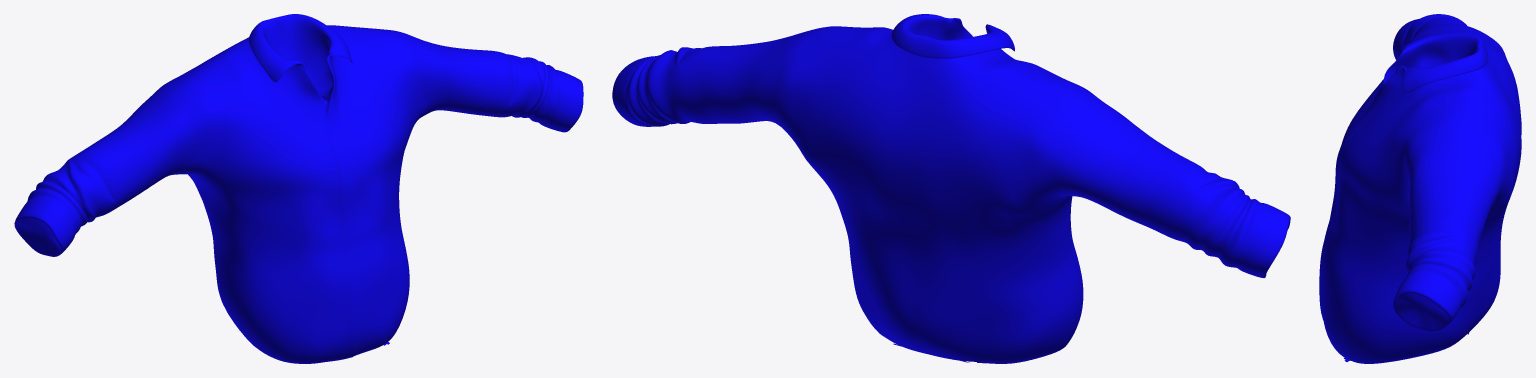
Rendered from casual 2.glb.
3 renders of one model, left to right at view 1: azimuth 30°, elevation 25°; view 2: azimuth 150°, elevation 25°; view 3: azimuth 270°, elevation 25°, orthographic. The views are drawn at different scales.
Parts seen in each view (by area): view 1: imagetostl_mesh0; view 2: imagetostl_mesh0; view 3: imagetostl_mesh0.
Boxes of the visible parts, box(x1,y1,x2,y2) form: imagetostl_mesh0: box(14, 14, 583, 363); imagetostl_mesh0: box(612, 14, 1290, 363); imagetostl_mesh0: box(1319, 14, 1521, 363).
Bounding box in the file's own units: 11.63 × 5.78 × 3.58.
